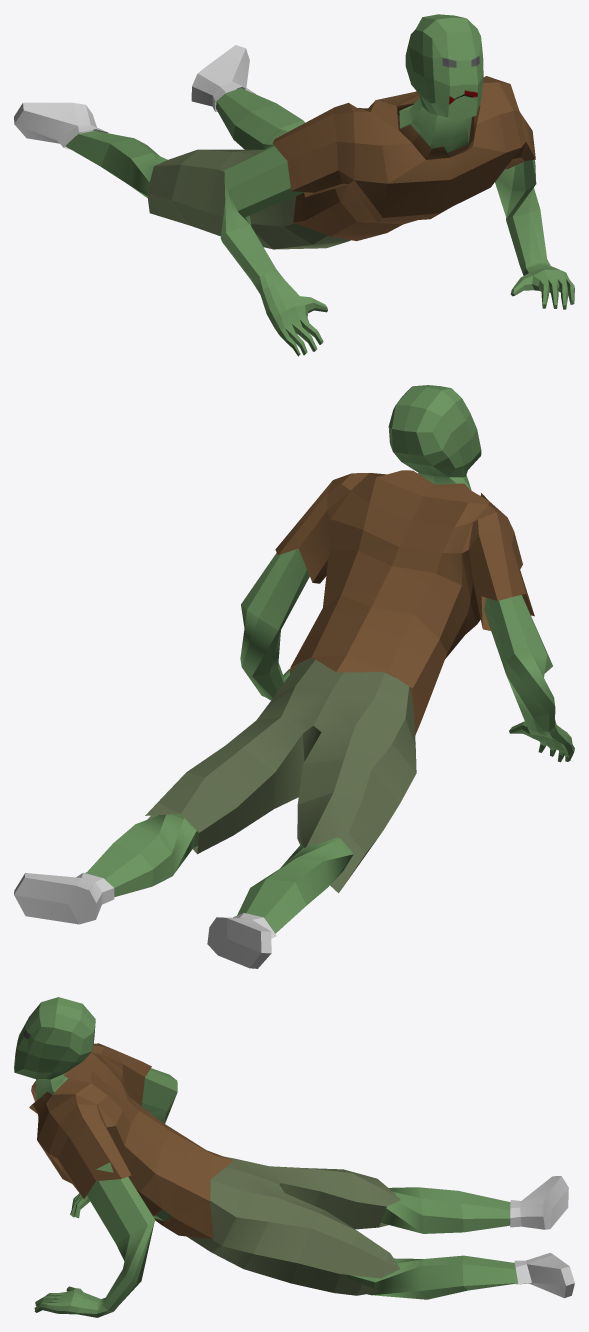
The model's file is ZombieCrawl(3).obj.
3 views of the same model, one above another, from view 1: azimuth 30°, elevation 25°; view 2: azimuth 150°, elevation 25°; view 3: azimuth 270°, elevation 25° (orthographic). The views are drawn at different scales.
Visible parts, largest first — view 1: Object001; view 2: Object001; view 3: Object001.
Boxes of the visible parts, x1,y1,x2,y2 form: Object001: [14, 14, 574, 356]; Object001: [14, 385, 574, 968]; Object001: [14, 997, 574, 1317].
Size of the model in its own units: 28.44 by 28.24 by 52.01.
